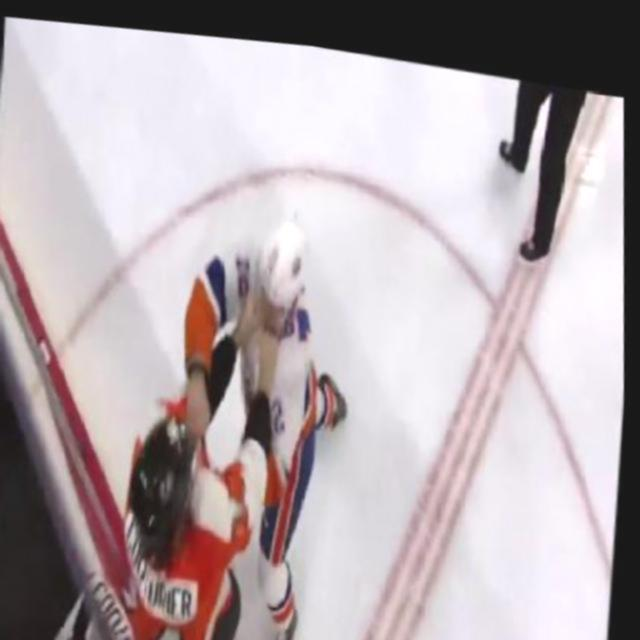fight: (94, 177, 390, 640)
